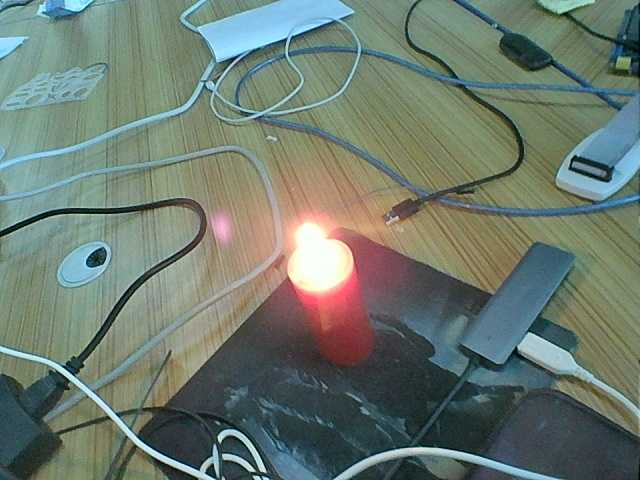candle: (294, 289, 383, 367)
fire: (283, 220, 349, 283)
